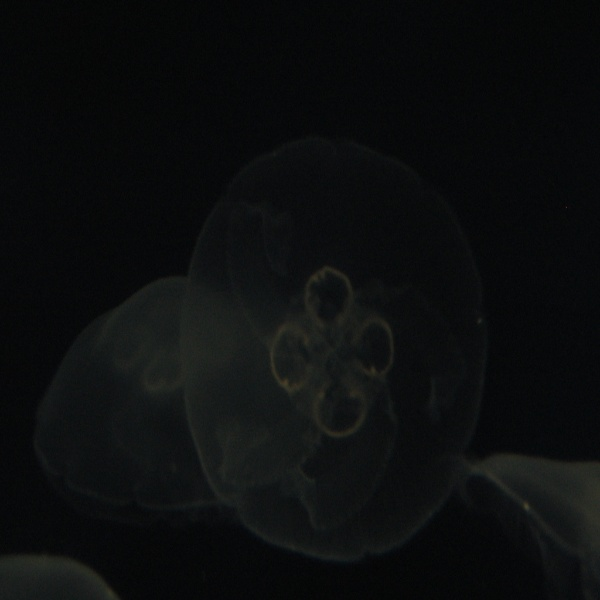Jellyfish: (0, 130, 599, 599)
